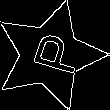P_W: (18, 30, 81, 80)
